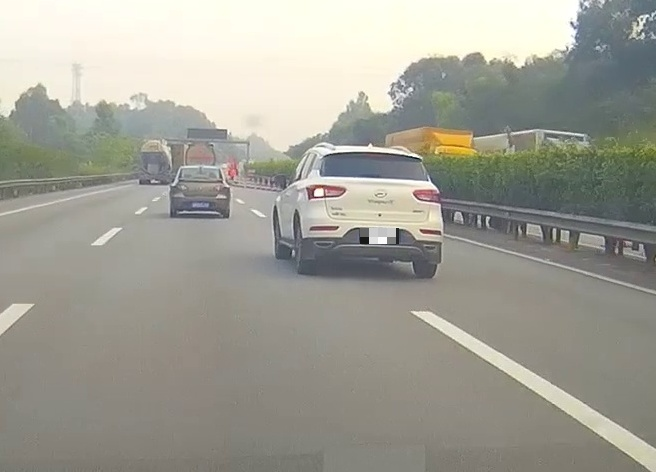L_light: (306, 184, 348, 200), (172, 184, 188, 191)
R_light: (412, 189, 441, 204), (214, 184, 230, 191)
T_light: (363, 152, 385, 157), (196, 167, 205, 170)
day-left: (302, 146, 444, 277)
day-no: (170, 166, 230, 219)
plate_1: (360, 228, 399, 244)
